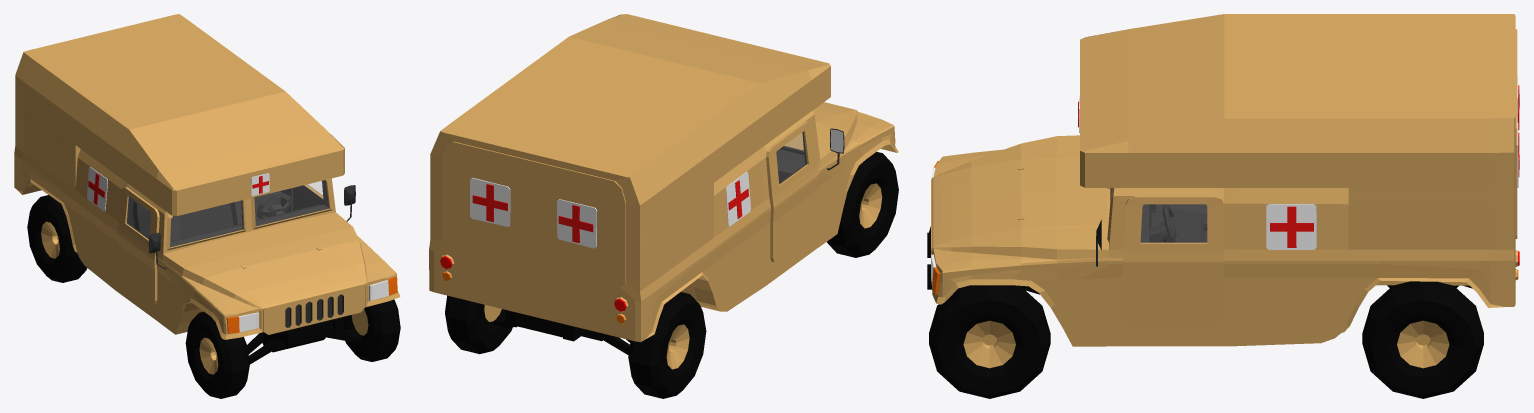
The picture shows the model from 3 angles, left to right: view 1: azimuth 30°, elevation 25°; view 2: azimuth 150°, elevation 25°; view 3: azimuth 270°, elevation 25°; orthographic projection. The views are drawn at different scales.
Visible parts, largest first — view 1: Plane.014, Plane.018, Plane.015, Cylinder.010, Plane.017, Cylinder.009, Cylinder.008, Plane.016; view 2: Plane.014, Plane.020, Plane.019, Plane.017, Cylinder.009, Cylinder.010, Cylinder.011, Plane.018; view 3: Plane.014, Plane.016, Cylinder.011, Cylinder.008, Plane.018, Plane.019.
Part boxes in pixels (x1,y1,x2,y2): Plane.014: (14, 14, 399, 364); Plane.018: (128, 180, 329, 247); Plane.015: (170, 181, 328, 246); Cylinder.010: (185, 311, 249, 398); Plane.017: (117, 187, 159, 304); Cylinder.009: (27, 195, 87, 282); Cylinder.008: (342, 299, 400, 361); Plane.016: (293, 180, 327, 210); Plane.014: (429, 14, 898, 355); Plane.020: (534, 161, 625, 287); Plane.019: (442, 141, 533, 266); Plane.017: (766, 121, 818, 262); Cylinder.009: (628, 292, 706, 398); Cylinder.010: (827, 152, 898, 257); Cylinder.011: (445, 295, 512, 354); Plane.018: (776, 146, 804, 182); Plane.014: (927, 14, 1519, 346); Plane.016: (1122, 196, 1223, 326); Cylinder.011: (1362, 281, 1483, 398); Cylinder.008: (929, 285, 1050, 398); Plane.018: (1110, 188, 1207, 242); Plane.019: (1515, 73, 1519, 238).
Bounding box in the file's own units: 242 × 226 × 438.
